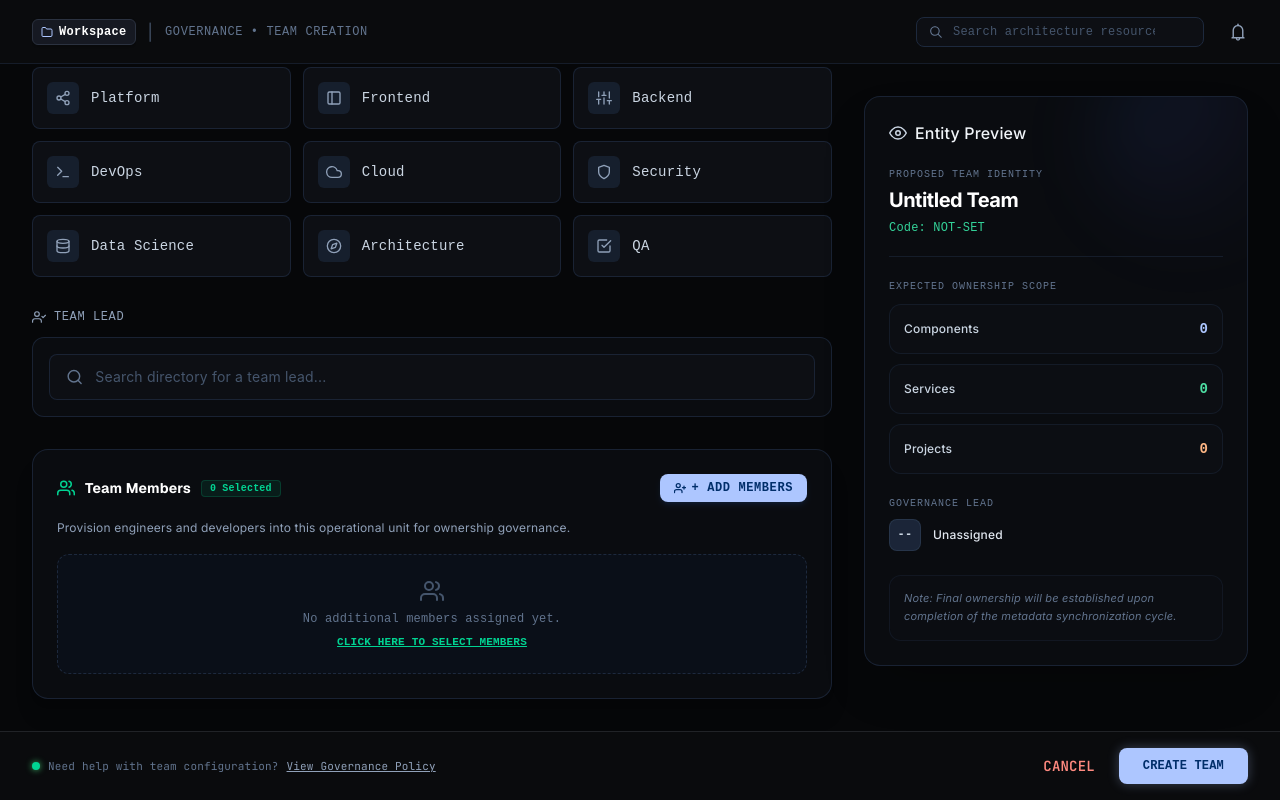
Scenario: Team Creation Flow › renders team members section with add members button
The image size is (1280, 800).
(page scrolled)
Expected: the heading "Team Members" is shown, [85,479,191,497]
Click the button "+ Add Members" at (733, 488), box [660,474,807,502]
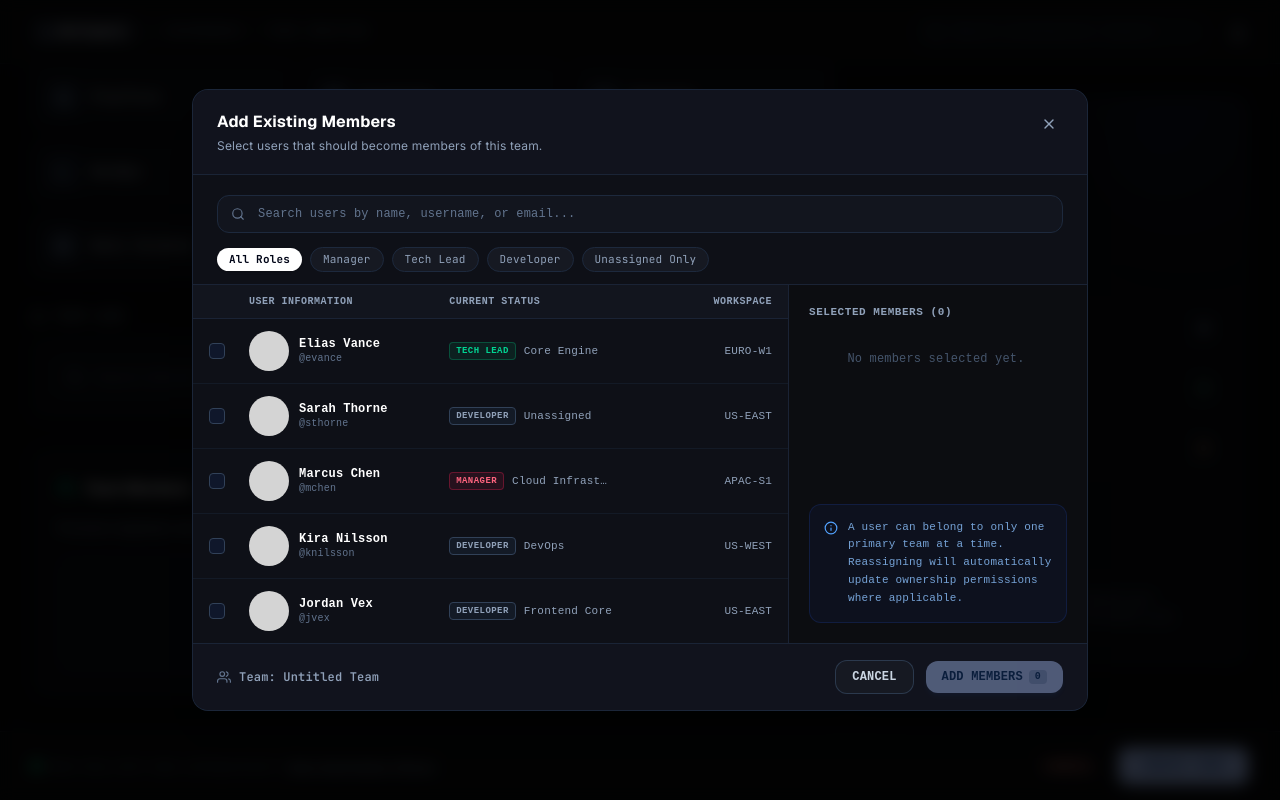
Expected: the heading "Add Existing Members" is shown, [217,111,396,132]
